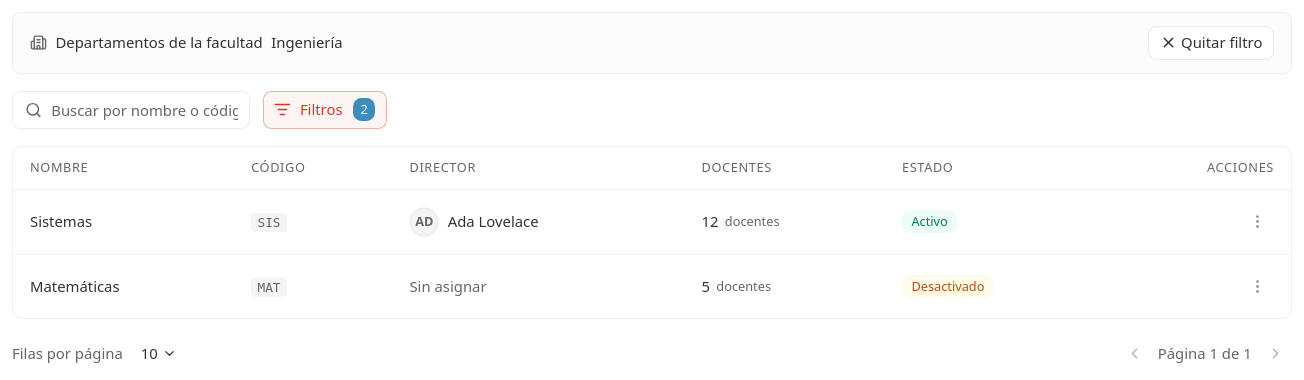
Test case: DepartmentsList › clears the faculty filter and lists every department again
Click the button "Quitar filtro" at (1211, 43), box [1148,26,1274,60]
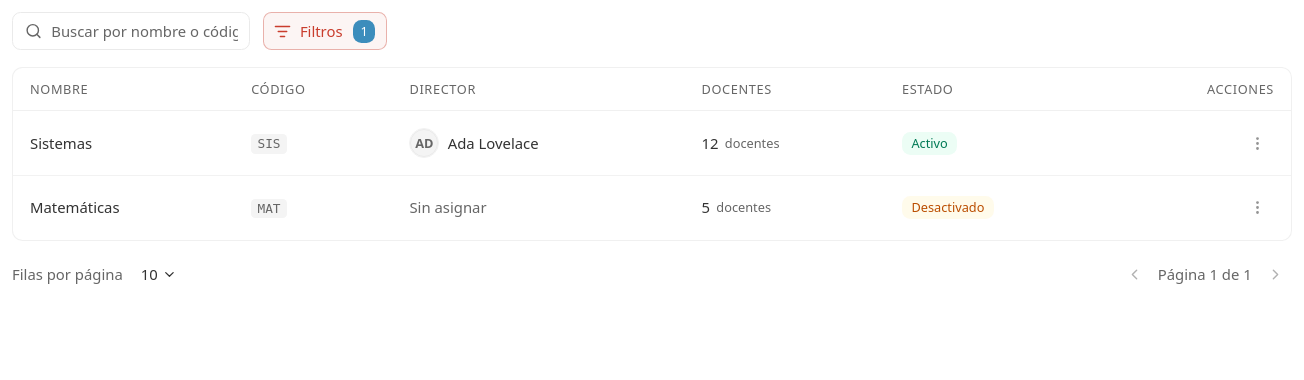
expect the text "Departamentos de la facultad" is gone: met
